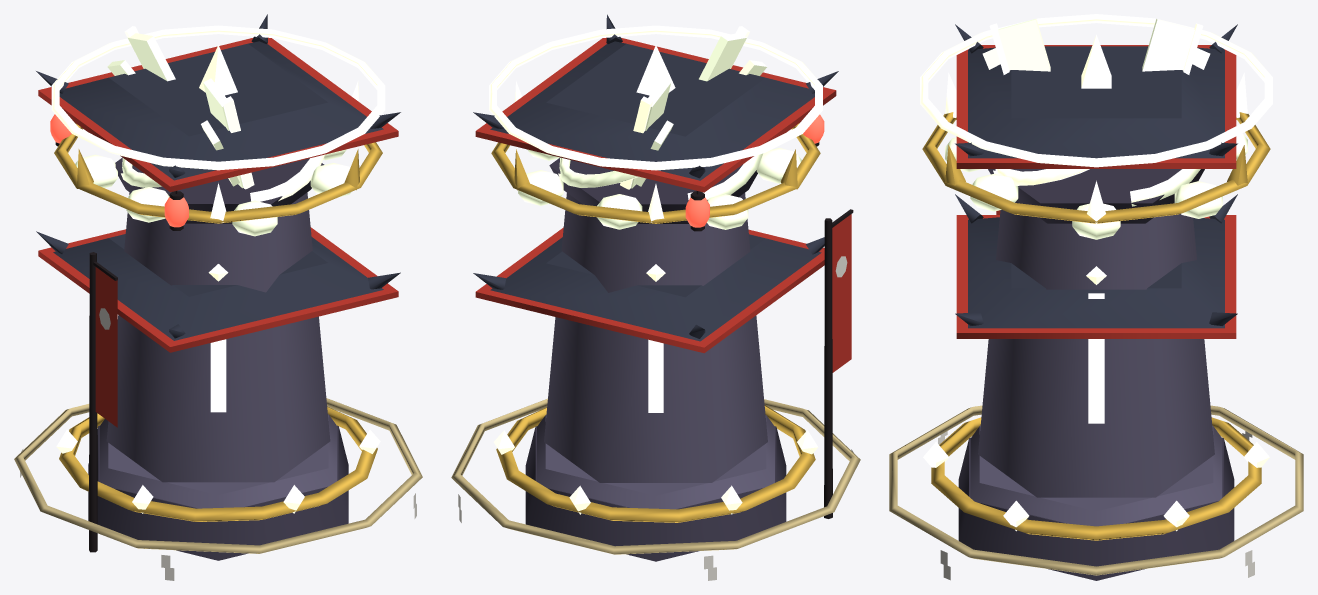
The model's file is tower_element_elementTempest_ultimate.glb.
The picture shows the model from 3 angles, left to right: view 1: azimuth 30°, elevation 25°; view 2: azimuth 150°, elevation 25°; view 3: azimuth 270°, elevation 25°; orthographic projection. The views are drawn at different scales.
Parts seen in each view (by area): view 1: pillar, deco_eave_0_roof, deco_eave_1_roof, base, base_top, ult_halo, deco_shimenawa_rope, ult_ring, deco_eave_1_rim, deco_eave_0_rim, ult_crown_band, pillar_cap (+16 smaller); view 2: pillar, deco_eave_0_roof, deco_eave_1_roof, base, base_top, ult_halo, deco_shimenawa_rope, ult_ring, deco_eave_1_rim, deco_eave_0_rim, ult_crown_band, pillar_cap (+15 smaller); view 3: pillar, deco_eave_0_roof, deco_eave_1_roof, base, base_top, deco_shimenawa_rope, ult_halo, ult_ring, deco_eave_1_rim, ult_crown_band, pillar_cap, deco_eave_0_rim (+11 smaller).
Boxes of the visible parts, bbox=[...] form: pillar: bbox=[106, 192, 330, 482]; deco_eave_0_roof: bbox=[59, 41, 383, 180]; deco_eave_1_roof: bbox=[53, 234, 383, 340]; base: bbox=[88, 425, 348, 560]; base_top: bbox=[99, 414, 337, 508]; ult_halo: bbox=[51, 25, 385, 170]; deco_shimenawa_rope: bbox=[14, 398, 422, 553]; ult_ring: bbox=[59, 406, 377, 521]; deco_eave_1_rim: bbox=[38, 227, 398, 352]; deco_eave_0_rim: bbox=[38, 37, 398, 192]; ult_crown_band: bbox=[54, 122, 382, 223]; pillar_cap: bbox=[115, 157, 324, 223]; pillar: bbox=[544, 193, 767, 482]; deco_eave_0_roof: bbox=[490, 41, 814, 180]; deco_eave_1_roof: bbox=[490, 234, 821, 341]; base: bbox=[525, 426, 786, 561]; base_top: bbox=[537, 415, 774, 509]; ult_halo: bbox=[489, 25, 822, 170]; deco_shimenawa_rope: bbox=[451, 398, 860, 554]; ult_ring: bbox=[496, 405, 815, 522]; deco_eave_1_rim: bbox=[475, 227, 824, 353]; deco_eave_0_rim: bbox=[475, 37, 836, 192]; ult_crown_band: bbox=[491, 123, 820, 223]; pillar_cap: bbox=[549, 157, 757, 223]; pillar: bbox=[978, 201, 1214, 497]; deco_eave_0_roof: bbox=[968, 46, 1224, 158]; deco_eave_1_roof: bbox=[968, 217, 1224, 328]; base: bbox=[958, 437, 1234, 580]; base_top: bbox=[970, 425, 1222, 526]; deco_shimenawa_rope: bbox=[889, 405, 1303, 575]; ult_halo: bbox=[920, 14, 1272, 167]; ult_ring: bbox=[931, 417, 1261, 540]; deco_eave_1_rim: bbox=[956, 215, 1236, 338]; ult_crown_band: bbox=[922, 112, 1270, 223]; pillar_cap: bbox=[988, 169, 1204, 223]; deco_eave_0_rim: bbox=[956, 45, 1236, 168].
Size of the model in its own units: 0.5268 by 0.64 by 0.501.
